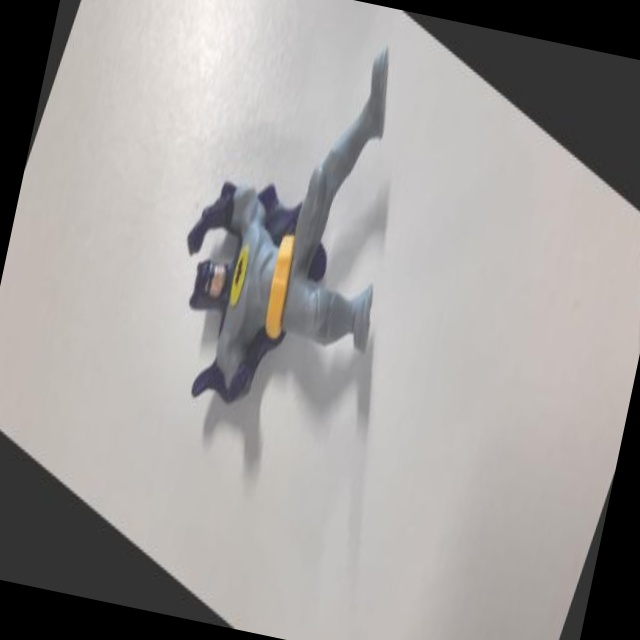Batman: (125, 0, 469, 513)
